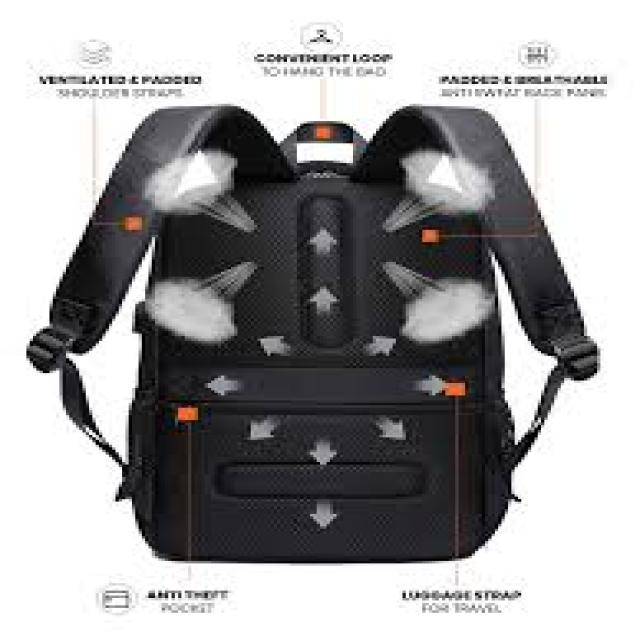backpack: (24, 103, 602, 565)
